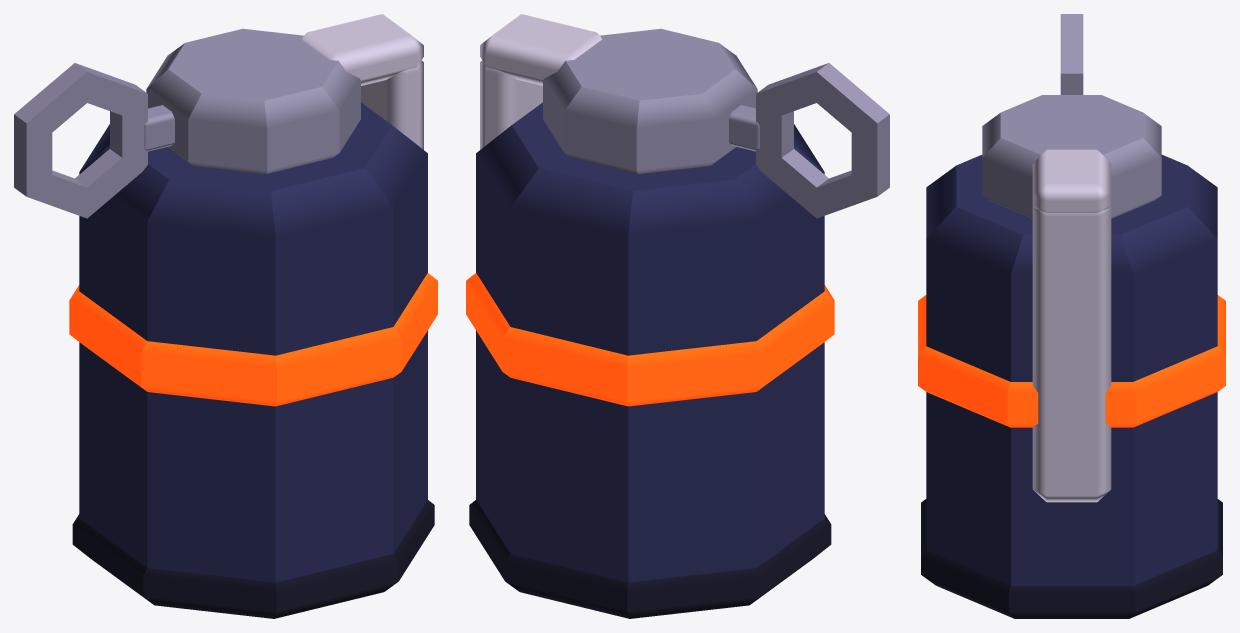
Rendered from grenade.glb.
The picture shows the model from 3 angles, left to right: view 1: azimuth 30°, elevation 25°; view 2: azimuth 150°, elevation 25°; view 3: azimuth 270°, elevation 25°; orthographic projection. The views are drawn at different scales.
Parts seen in each view (by area): view 1: item.grenade.body, part.pin; view 2: item.grenade.body, part.pin; view 3: item.grenade.body, part.pin.
Boxes of the visible parts, left/top/right/bottom form: item.grenade.body: left=69, top=14, right=437, bottom=618; part.pin: left=14, top=63, right=174, bottom=218; item.grenade.body: left=466, top=14, right=834, bottom=618; part.pin: left=729, top=63, right=889, bottom=218; item.grenade.body: left=918, top=95, right=1225, bottom=618; part.pin: left=1060, top=14, right=1083, bottom=94.
Size of the model in its own units: 0.2258 by 0.2906 by 0.1719.
